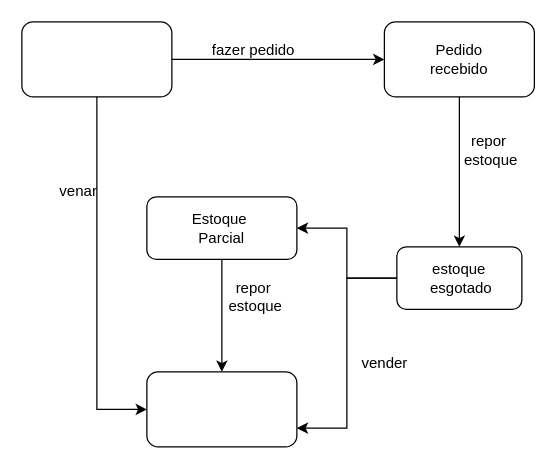
Image size: 556x469. Some labels were removed from this diagram. The shapes that lost their labels are listed below. From the top down, each one's centre as x and y in pixels, then its label:
At pixel 96 59: "Estoque Vazio".
At pixel 221 409: "Estoque cheio".
